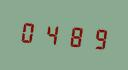eight: (62, 19, 83, 51)
four: (40, 18, 61, 49)
nine: (84, 21, 105, 53)
zero: (18, 16, 39, 47)
